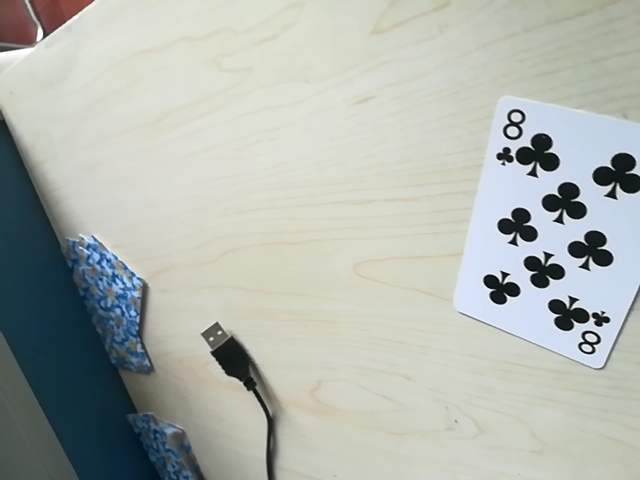mh 8: (492, 101, 542, 164), (556, 309, 611, 359)
